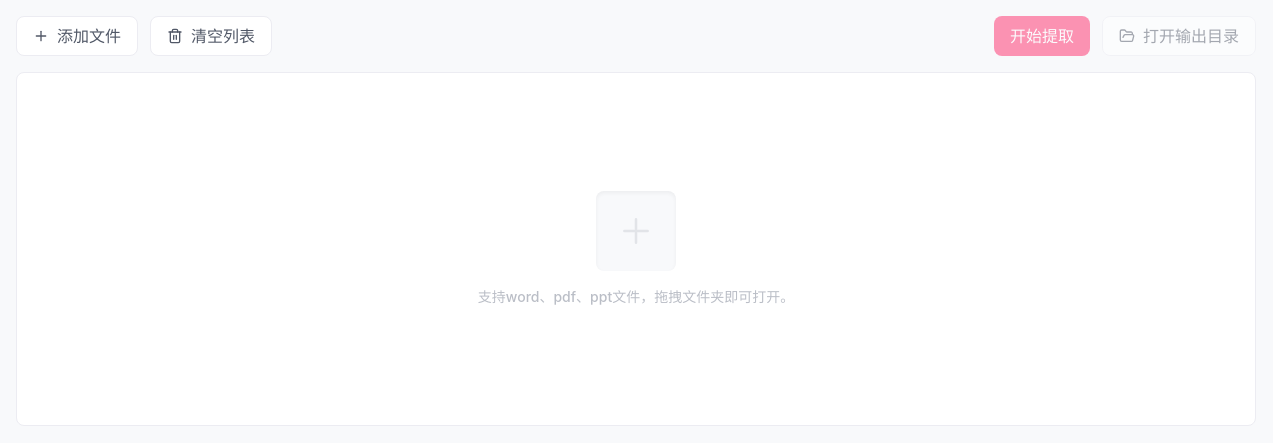
Test: ExtractImagePage › extracts images using the global extraction settings and inferred output directory
Click the button "添加文件" at (77, 36), box [16, 16, 138, 56]
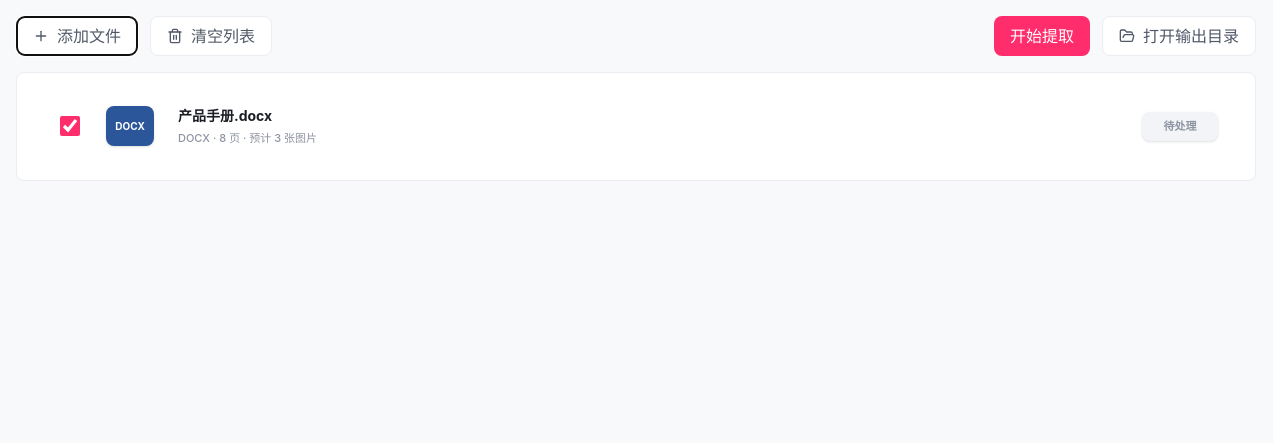
expect the text "产品手册.docx" is shown: met, box [178, 107, 272, 124]
expect the text named "文件类型 DOCX" is shown: met, box [106, 106, 154, 146]
Click the button "开始提取" at (1042, 36), box [994, 16, 1090, 56]
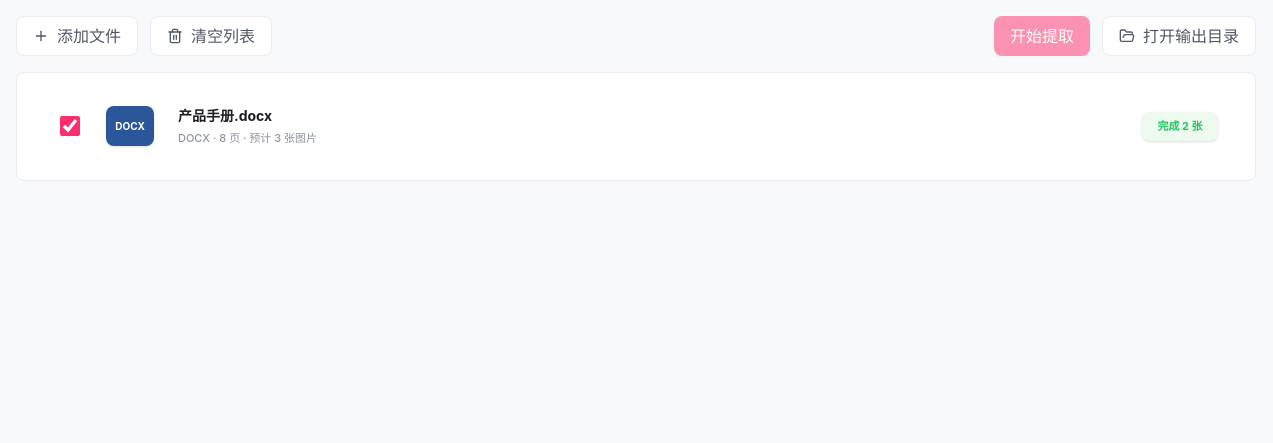
expect the text "完成 2 张" is shown: met, box [1142, 112, 1218, 140]
